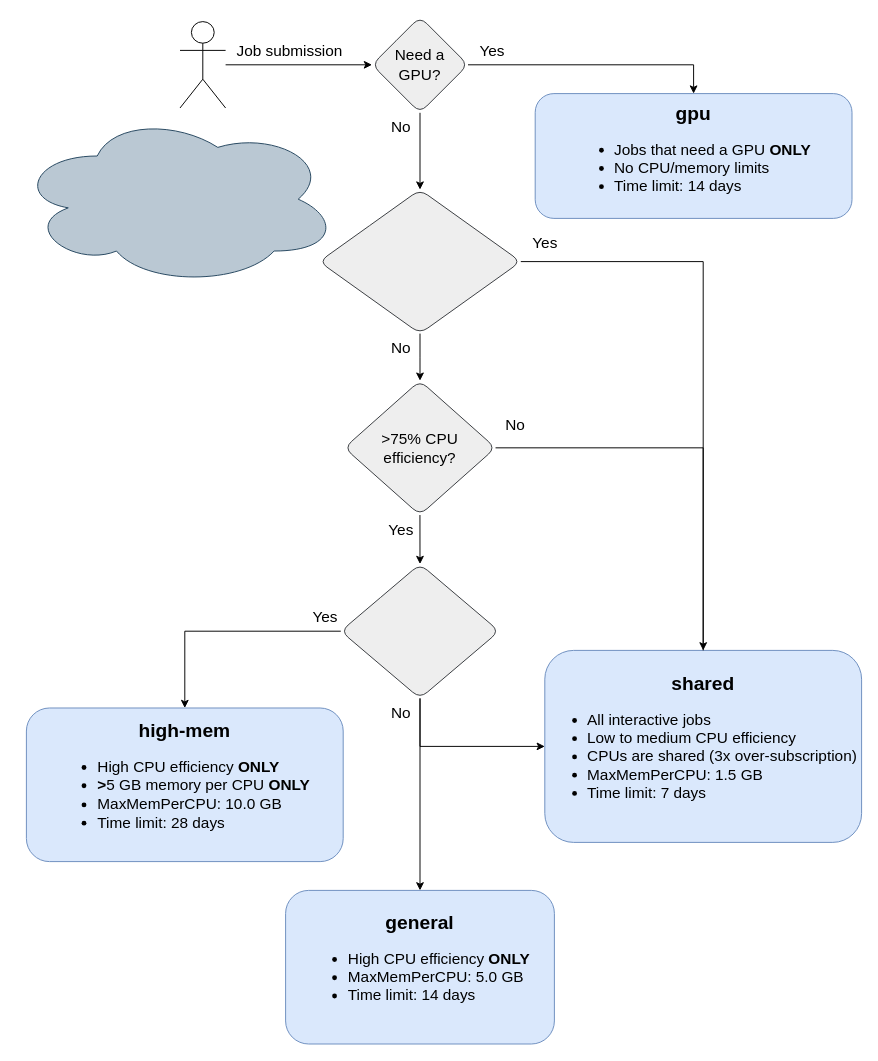
Image size: 878x1061. Some labels were removed from this diagram. Each missing label, with the centre of its shape:
>5GB memory per CPU?: point (419, 630)
Always consider: Expected CPU efficiency Memory per CPU ratio: point (177, 199)
Interactive job? (shell / code editor / virtual desktop): point (419, 261)
